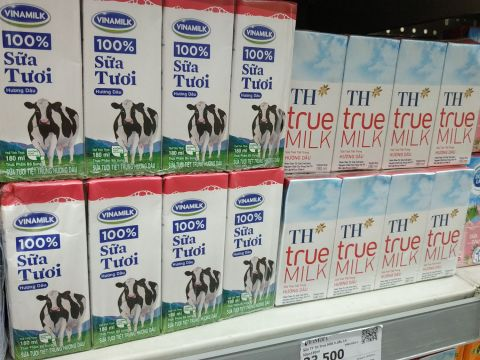thtruemilk: (288, 223, 328, 245), (292, 82, 330, 105), (346, 86, 385, 108), (398, 87, 433, 109), (388, 212, 423, 234), (340, 218, 375, 239), (443, 88, 474, 108), (431, 209, 461, 229)
vinamilk: (90, 10, 137, 34), (1, 5, 51, 26), (12, 212, 60, 231), (171, 18, 212, 39), (96, 206, 139, 223), (170, 199, 208, 216), (242, 24, 275, 43), (233, 194, 265, 208)
